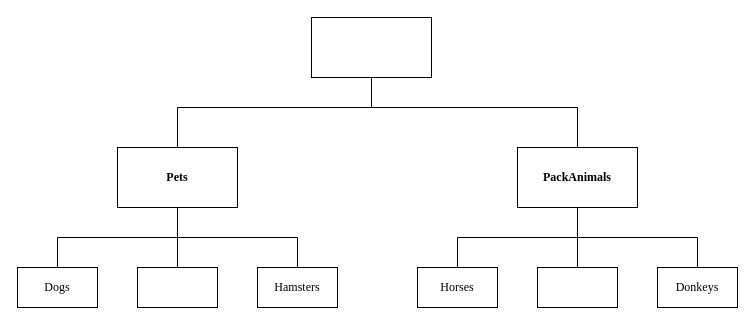
The diagram is 755 pixels wide and 325 high, and some of its shapes have lost their labels. Each missing label, with the box of its shape:
Animals: (310, 16, 432, 78)
Camels: (536, 266, 618, 308)
Cats: (136, 266, 218, 308)
